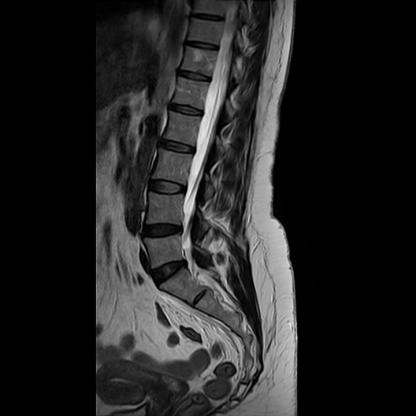Disc Bulgerotation: (147, 259, 193, 285), (142, 220, 189, 243)
